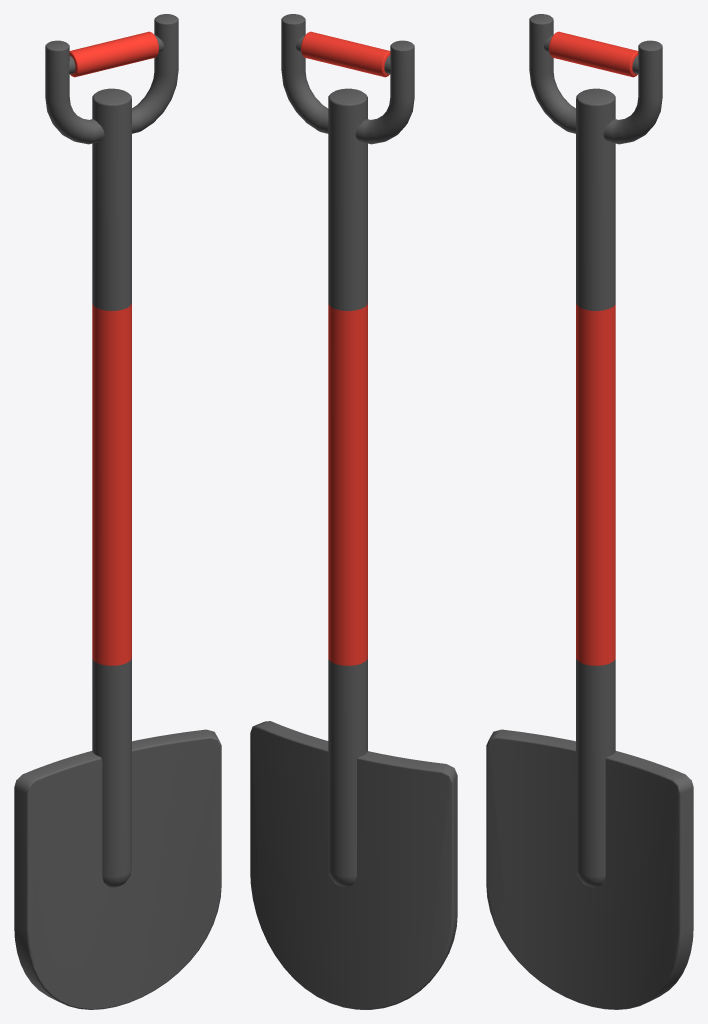
File: Public_11_Fireman_Shovel_1.glb
3 renders of one model, left to right at view 1: azimuth 30°, elevation 25°; view 2: azimuth 150°, elevation 25°; view 3: azimuth 330°, elevation 25°, orthographic.
Visible parts, largest first — view 1: Public_11_Fireman_Shovel_1; view 2: Public_11_Fireman_Shovel_1; view 3: Public_11_Fireman_Shovel_1.
Boxes of the visible parts, x1,y1,x2,y2 form: Public_11_Fireman_Shovel_1: (14,14,221,1009); Public_11_Fireman_Shovel_1: (250,14,457,1009); Public_11_Fireman_Shovel_1: (486,14,693,1009).
Size of the model in its own units: 0.5532 by 2.52 by 0.1069.
Materials: 1 (1 with a texture image).
